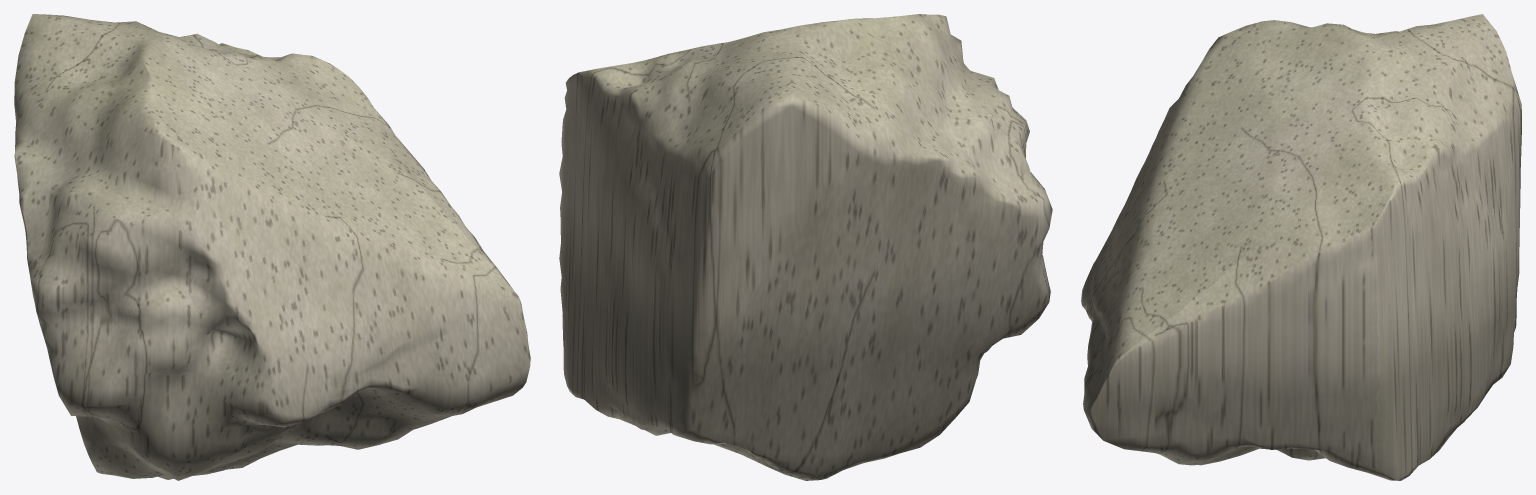
File: rock-limestone-0.full.glb
3 views of the same model, side by side, from view 1: azimuth 30°, elevation 25°; view 2: azimuth 150°, elevation 25°; view 3: azimuth 270°, elevation 25° (orthographic). The views are drawn at different scales.
Visible parts, largest first — view 1: model; view 2: model; view 3: model.
Part boxes in pixels (x1,y1,x2,y2): model: (14, 14, 530, 480); model: (559, 14, 1052, 480); model: (1081, 14, 1521, 480).
Size of the model in its own units: 1 by 0.9454 by 0.9621.
Materials: 1 (1 with a texture image).
